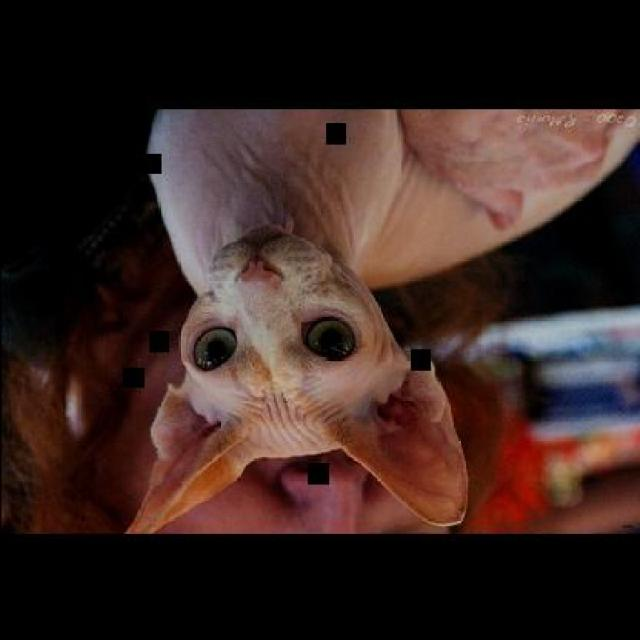unauthorized: (0, 108, 638, 534), (121, 220, 514, 534)
